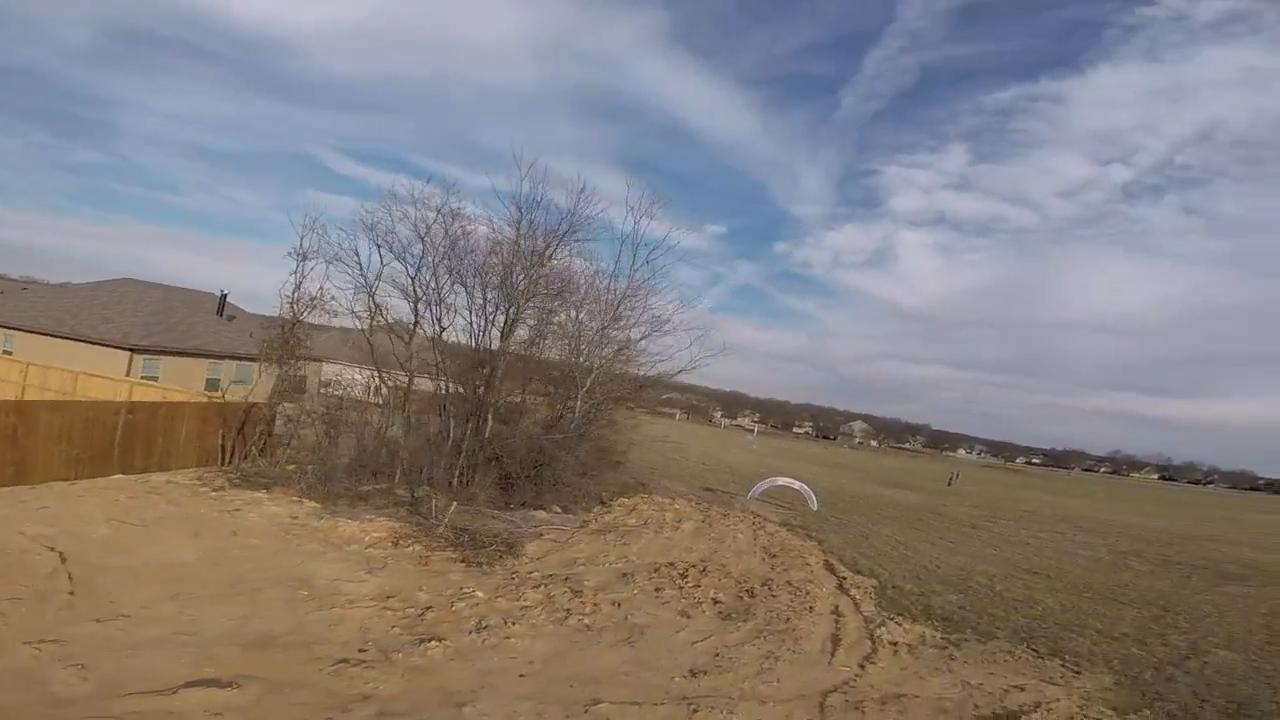gate: (746, 477, 818, 516)
